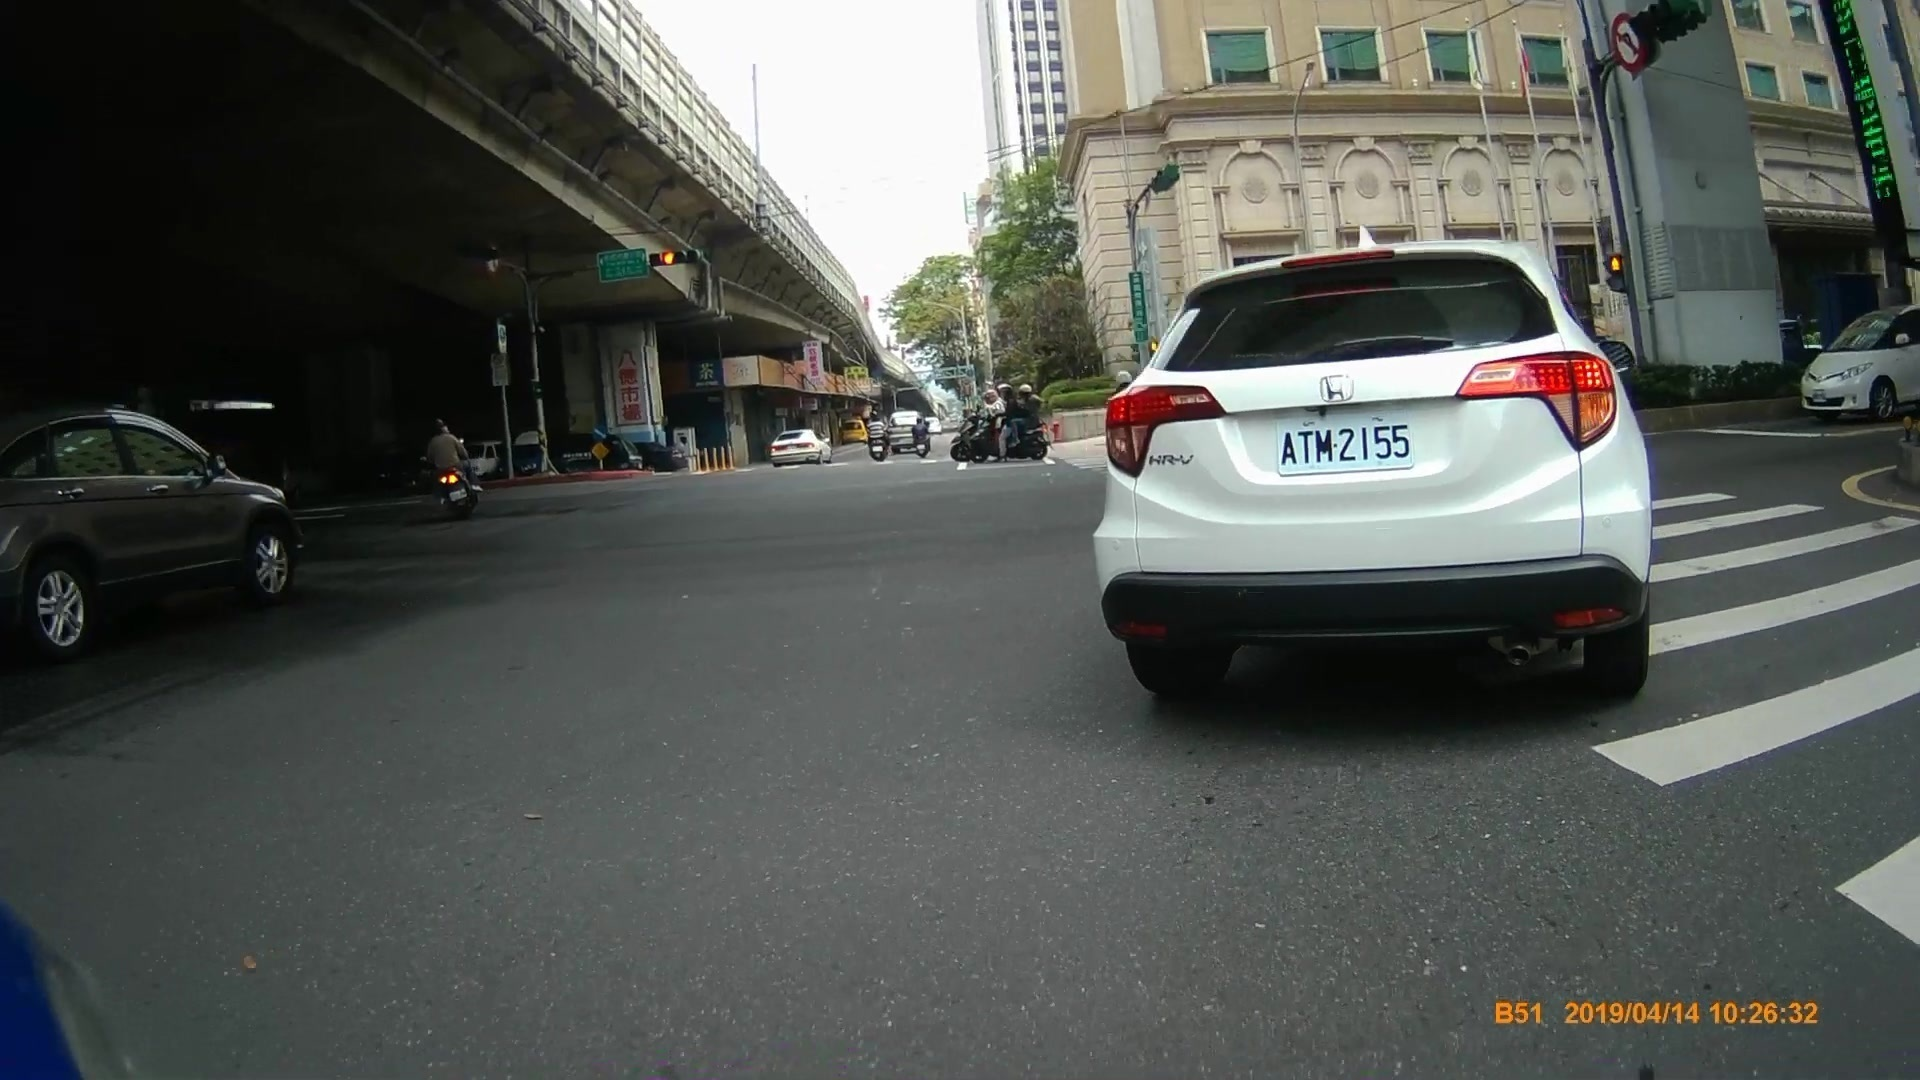License_plate: (1276, 411, 1423, 473)
